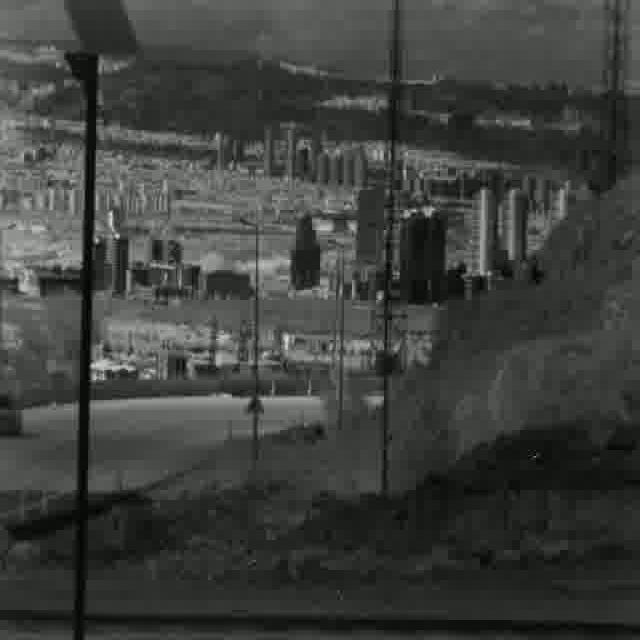Car: (0, 384, 23, 436)
